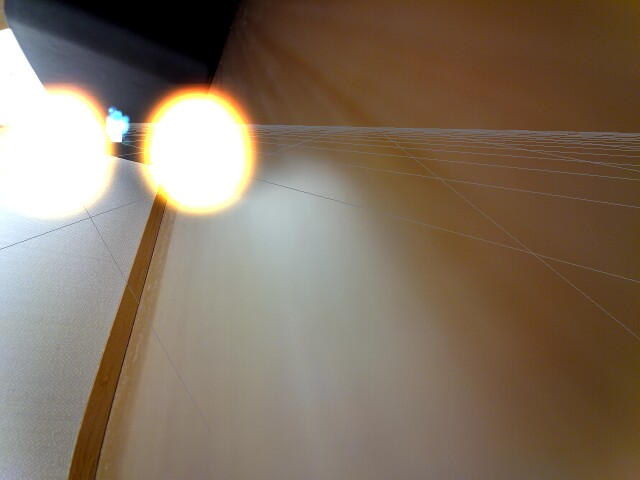firebig: (0, 54, 107, 227)
